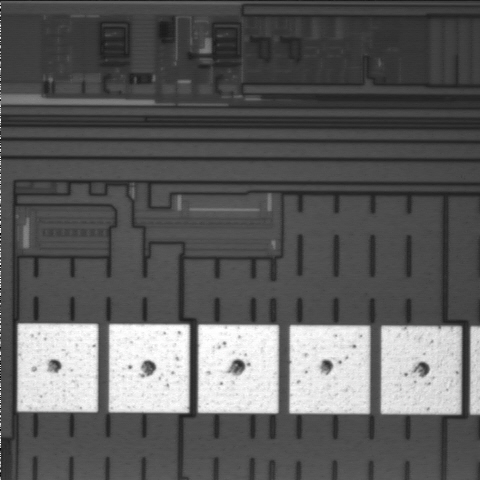pad: (289, 325, 370, 414), (17, 324, 98, 412), (198, 325, 279, 413), (109, 324, 189, 413), (381, 326, 461, 414)
